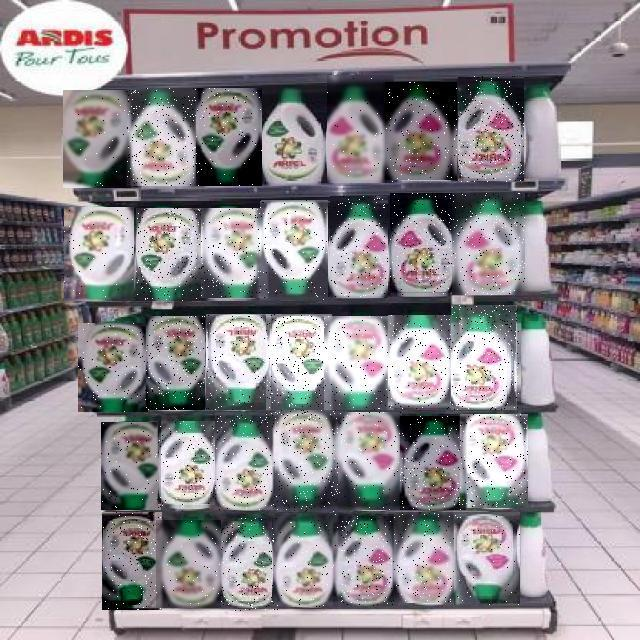Detergent: (452, 193, 525, 295), (328, 75, 396, 183), (452, 305, 520, 410), (458, 76, 524, 182), (127, 88, 198, 186), (386, 83, 457, 181), (261, 200, 329, 300), (63, 90, 131, 188), (390, 194, 455, 296), (64, 207, 134, 301), (324, 316, 394, 410), (136, 208, 206, 301), (196, 88, 262, 186), (216, 413, 282, 511), (266, 314, 332, 411), (461, 415, 529, 509), (276, 410, 338, 512), (338, 413, 402, 511), (206, 315, 271, 411), (78, 323, 148, 412), (388, 316, 454, 410), (400, 416, 466, 510), (276, 513, 342, 607), (454, 512, 520, 605), (394, 512, 460, 603), (202, 208, 268, 298), (330, 197, 388, 299), (103, 512, 163, 610), (156, 520, 222, 608), (222, 518, 282, 611), (337, 516, 399, 606), (146, 316, 205, 410), (101, 422, 161, 510), (159, 422, 219, 508)
